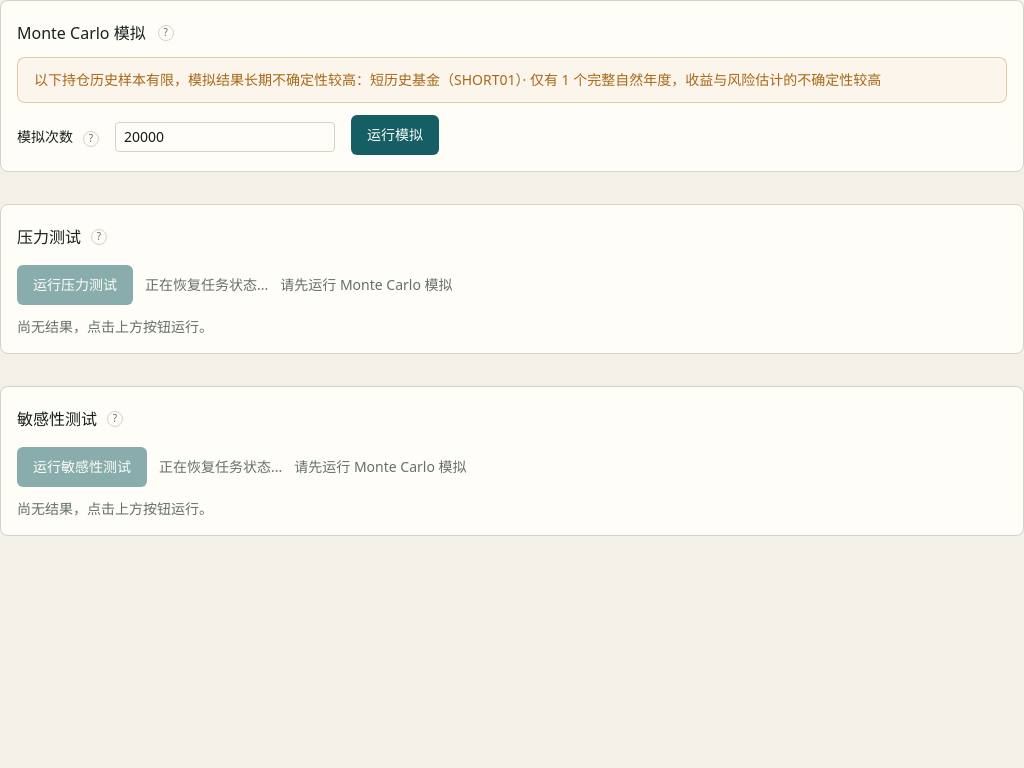
Scenario: AnalysisPage zero success › first run shows results after the job completes without manual refresh
The width and height of the screenshot is (1024, 768).
Click the button "运行模拟" at (395, 135), box [351, 115, 439, 155]
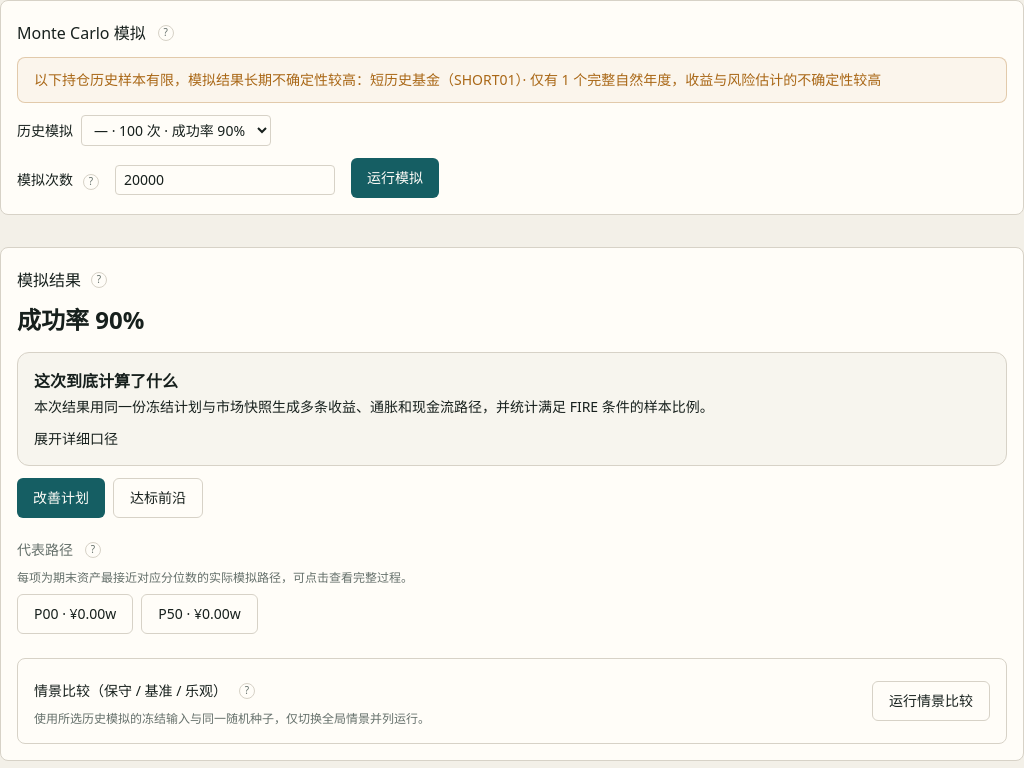
Expected: the heading "模拟结果 ?" is shown, [17, 269, 107, 291]
